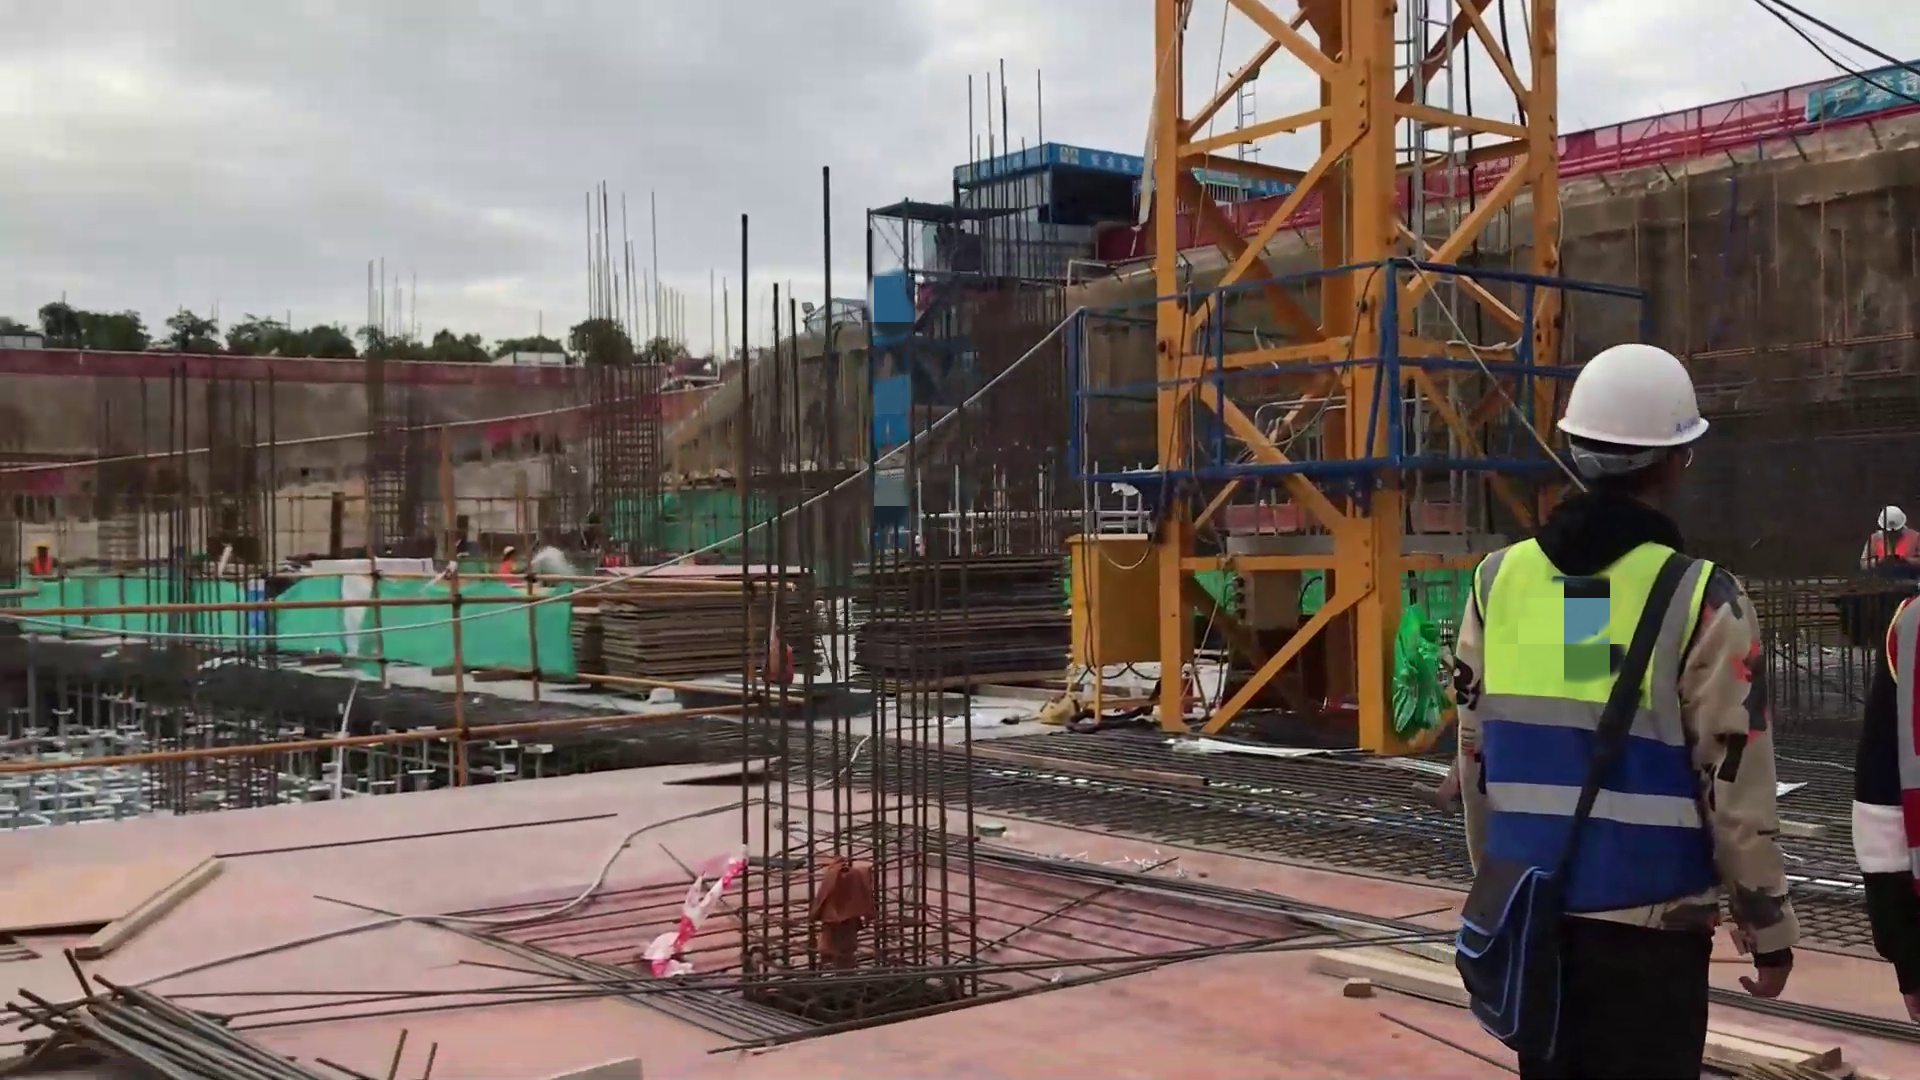helmet: (1543, 346, 1706, 450), (1878, 506, 1908, 530), (501, 544, 514, 558), (35, 537, 49, 546), (607, 538, 617, 548), (914, 536, 920, 543)
person: (1443, 346, 1800, 1080), (1864, 573, 1920, 1026), (1844, 502, 1920, 585), (23, 541, 62, 578), (499, 538, 525, 592), (592, 540, 630, 563)
vest: (1463, 553, 1751, 915), (1868, 529, 1907, 555), (36, 552, 51, 572), (500, 558, 514, 575), (606, 555, 622, 568)
